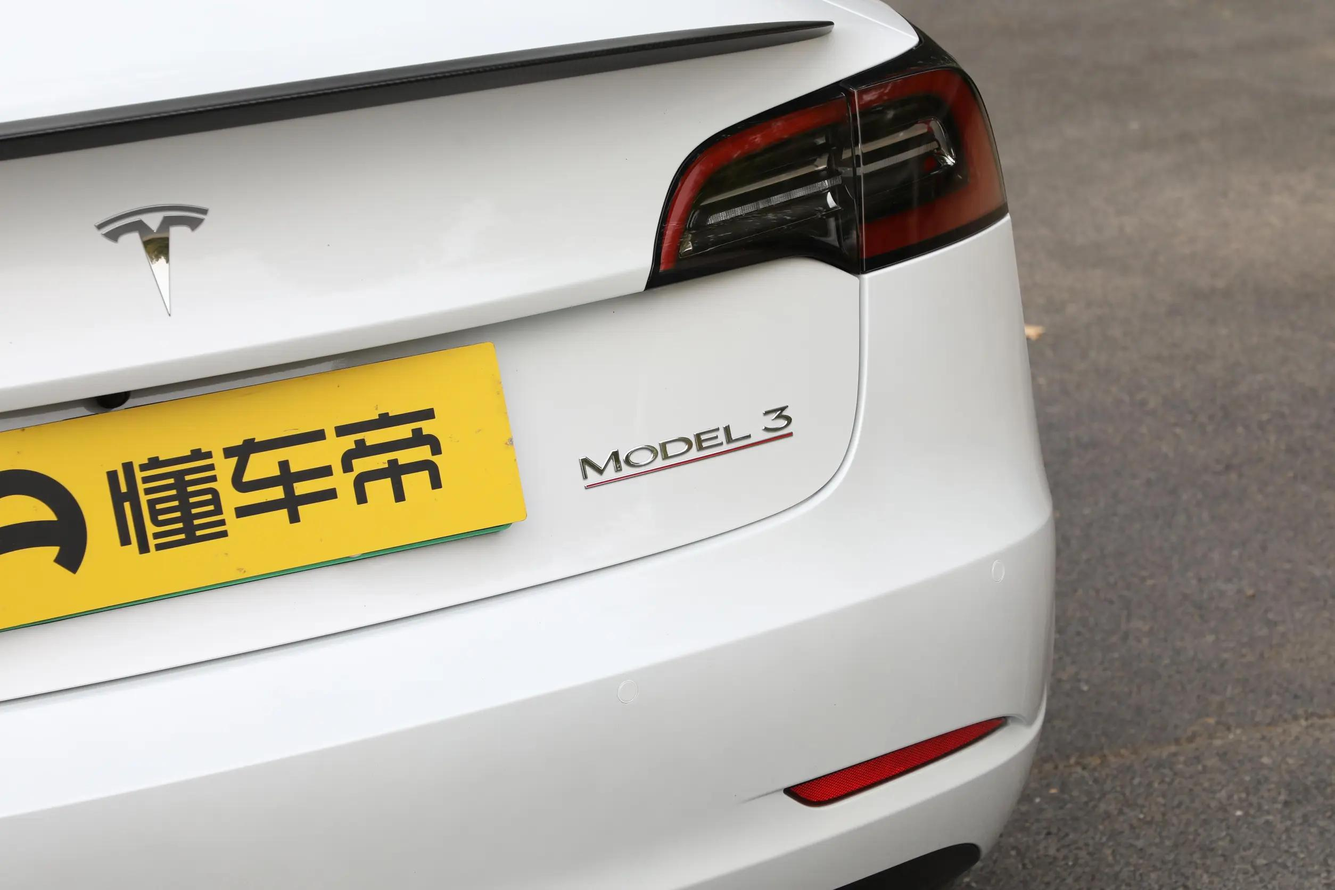Tesla: (94, 204, 209, 316)
